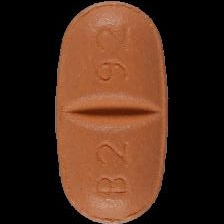68084-845: (0, 0, 224, 224)
